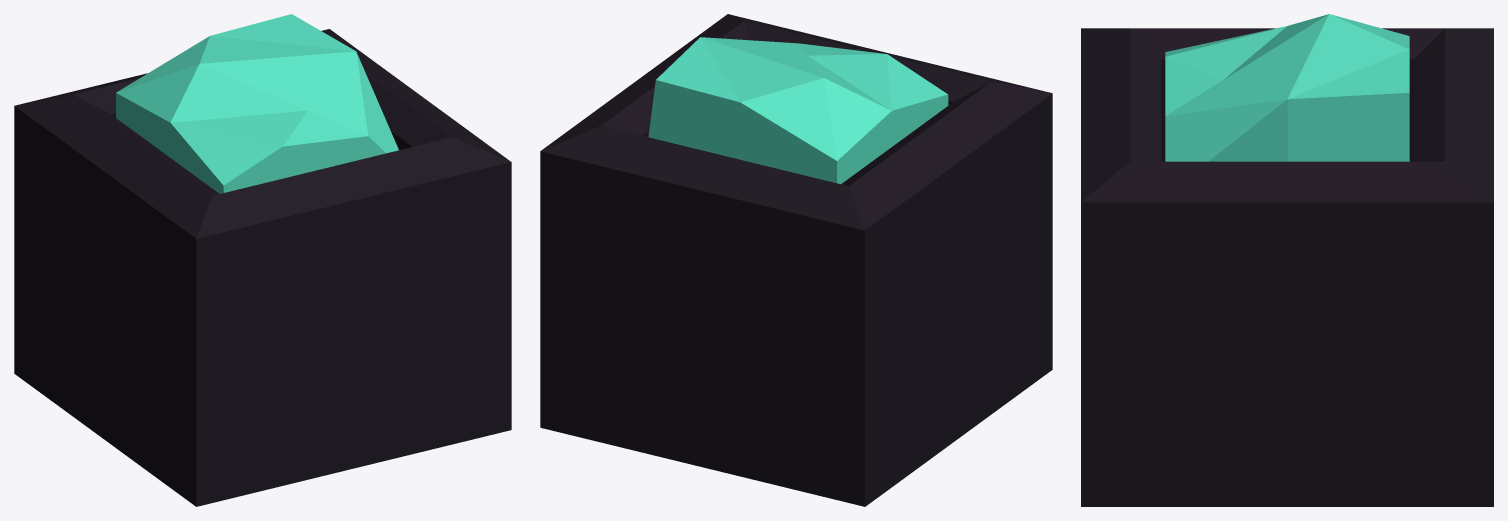
The model's file is glowy_box.gltf.
3 views of the same model, side by side, from view 1: azimuth 30°, elevation 25°; view 2: azimuth 150°, elevation 25°; view 3: azimuth 270°, elevation 25° (orthographic). The views are drawn at different scales.
Parts seen in each view (by area): view 1: Cube; view 2: Cube; view 3: Cube.
Part boxes in pixels (x1,y1,x2,y2): Cube: (14,14,511,506); Cube: (540,14,1052,506); Cube: (1081,14,1493,506).
Bounding box in the file's own units: 1 × 1.02 × 1.
